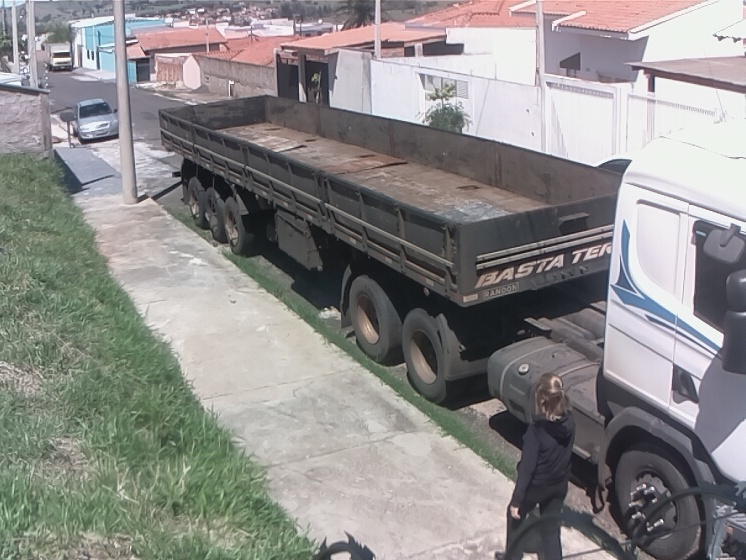person: (496, 372, 579, 560)
